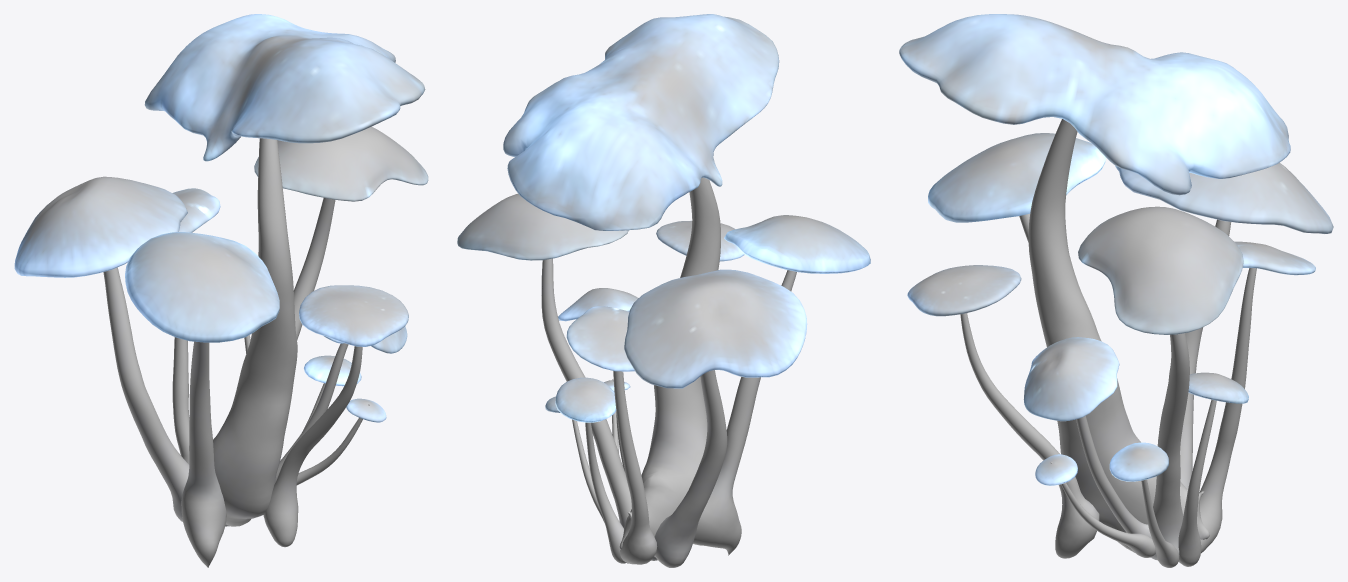
Rendered from alien_plant_6_LOD0.fbx.
The picture shows the model from 3 angles, left to right: view 1: azimuth 30°, elevation 25°; view 2: azimuth 150°, elevation 25°; view 3: azimuth 270°, elevation 25°; orthographic projection. The views are drawn at different scales.
Parts seen in each view (by area): view 1: AlienPlant6_LOD0; view 2: AlienPlant6_LOD0; view 3: AlienPlant6_LOD0.
Boxes of the visible parts, bbox=[...] form: AlienPlant6_LOD0: bbox=[14, 14, 428, 567]; AlienPlant6_LOD0: bbox=[457, 14, 870, 567]; AlienPlant6_LOD0: bbox=[899, 14, 1333, 567].
Bounding box in the file's own units: 49.59 × 66.03 × 46.17.
